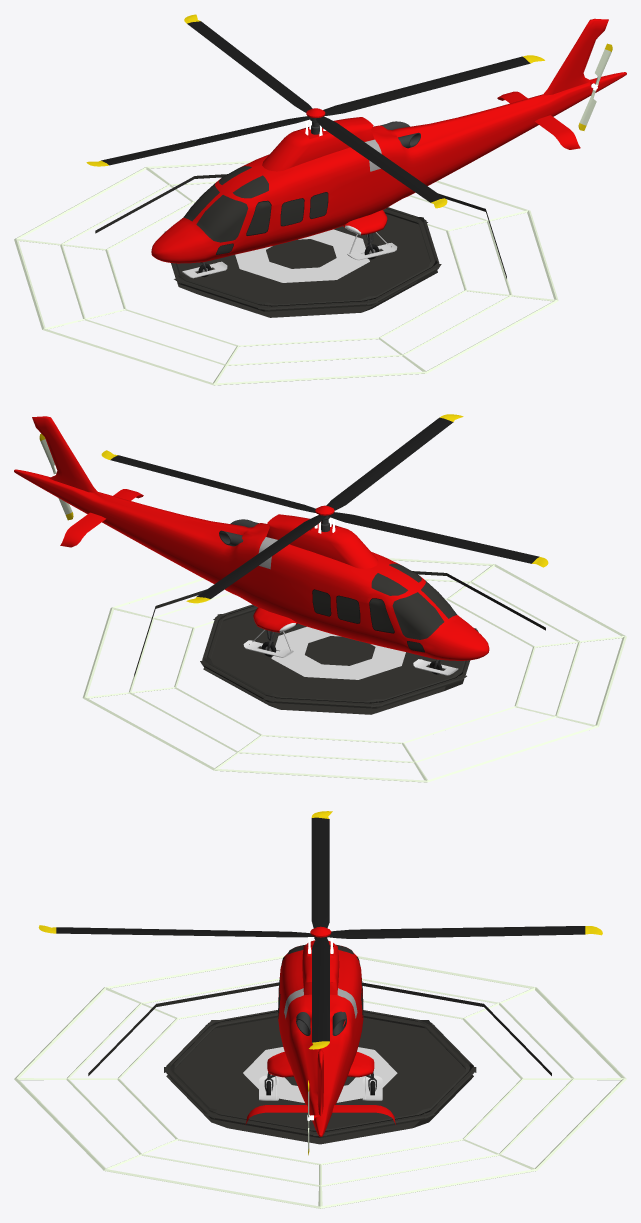
Rendered from helicopter_vip_pro_no8.gltf.
The picture shows the model from 3 angles, top to bottom: view 1: azimuth 30°, elevation 25°; view 2: azimuth 150°, elevation 25°; view 3: azimuth 270°, elevation 25°; orthographic projection. The views are drawn at different scales.
Visible parts, largest first — view 1: Cube, Cylinder.005, Cylinder.006, Cylinder.003, Cube.001, Cube.004, Cylinder.002; view 2: Cube, Cylinder.005, Cylinder.006, Cylinder.003, Cube.001, Cube.004; view 3: Cylinder.005, Cylinder.006, Cube, Cylinder.003, Cube.004, Cube.001, Cube.007, Cylinder.
Part boxes in pixels (x1=…): Cube: x1=151, y1=18, x2=626, y2=263; Cylinder.005: x1=95, y1=174, x2=506, y2=317; Cylinder.006: x1=14, y1=161, x2=558, y2=385; Cylinder.003: x1=86, y1=14, x2=544, y2=208; Cube.001: x1=497, y1=91, x2=580, y2=149; Cube.004: x1=343, y1=210, x2=387, y2=235; Cylinder.002: x1=578, y1=43, x2=612, y2=130; Cube: x1=14, y1=416, x2=489, y2=660; Cylinder.005: x1=134, y1=571, x2=545, y2=714; Cylinder.006: x1=82, y1=558, x2=626, y2=782; Cylinder.003: x1=101, y1=414, x2=548, y2=603; Cube.001: x1=60, y1=489, x2=143, y2=547; Cube.004: x1=253, y1=607, x2=297, y2=632; Cylinder.005: x1=88, y1=982, x2=551, y2=1144; Cylinder.006: x1=14, y1=955, x2=626, y2=1208; Cube: x1=278, y1=940, x2=363, y2=1136; Cylinder.003: x1=38, y1=811, x2=602, y2=1049; Cube.004: x1=267, y1=1052, x2=374, y2=1077; Cube.001: x1=245, y1=1105, x2=395, y2=1124; Cube.007: x1=259, y1=1075, x2=382, y2=1100; Cylinder: x1=296, y1=1011, x2=346, y2=1035.
Size of what is drawn, in the model's own units: 11.52 by 3.35 by 9.62.
